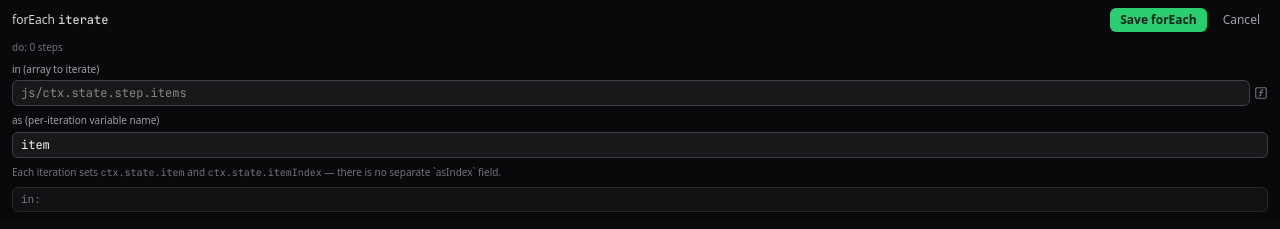
Scenario: ForEachEditor — upstream picker keeps the js/ prefix › picking an upstream field inserts the js/-prefixed expression verbatim (forEach.in is mapper-resolved, not raw ctx)
Click the button titled "Insert a value from an upstream step" at x=1261, y=93, box [1254,86,1268,100]
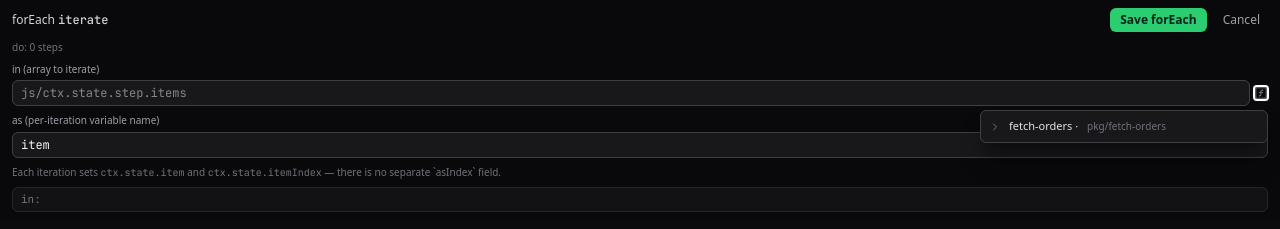
Click the button named "Expand fetch-orders" at x=995, y=127, box [985,117,1005,137]
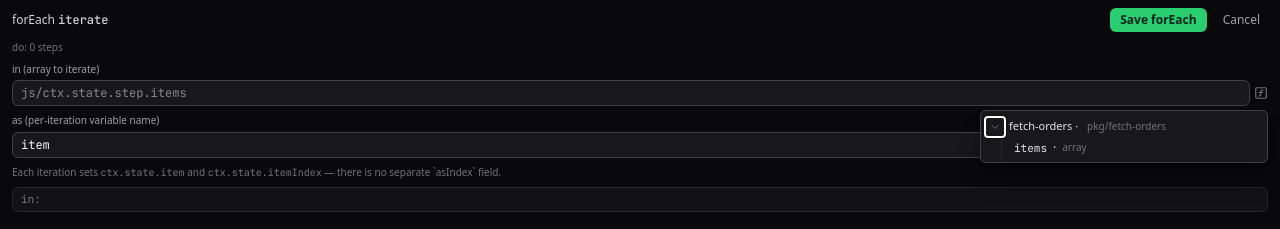
Click the button "items · array" at x=1136, y=148, box [1010,138,1263,158]
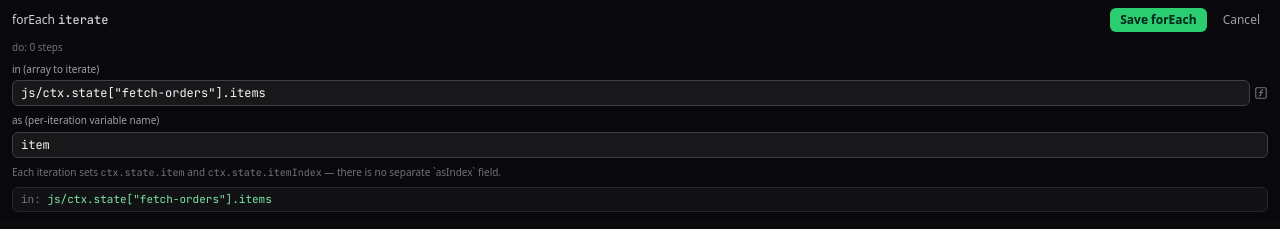
Check: the field labelled "in" holds "js/ctx.state[\"fetch-orders\"].items", box [12,80,1250,106]
